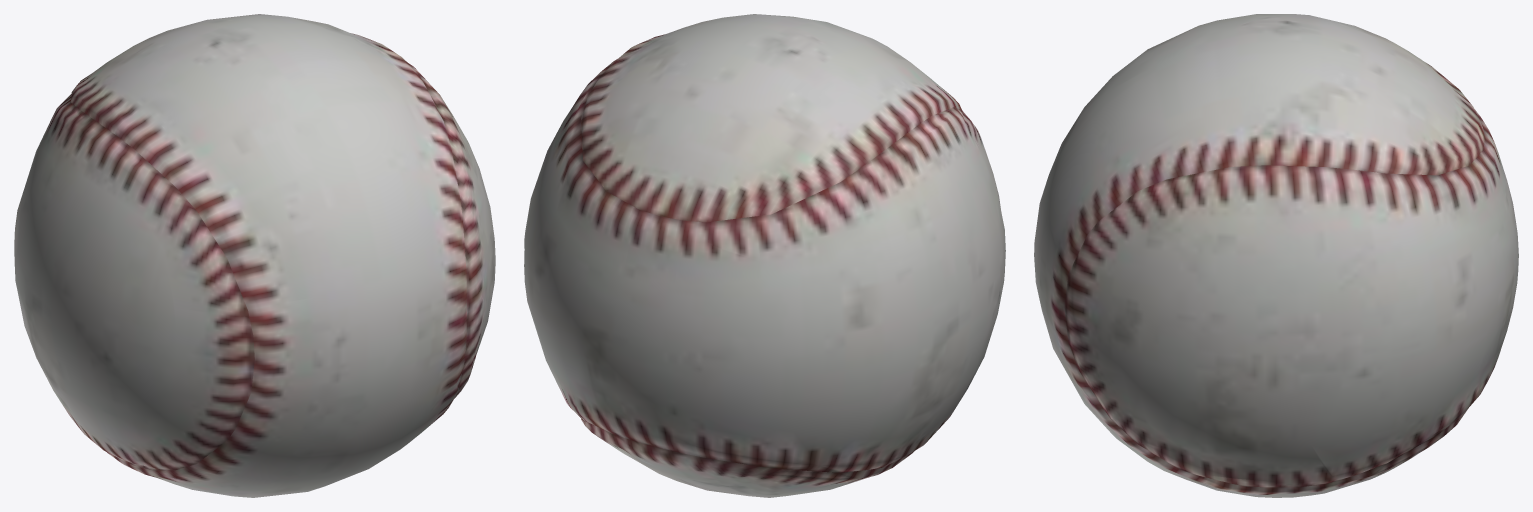
File: baseball.glb
3 views of the same model, side by side, from view 1: azimuth 30°, elevation 25°; view 2: azimuth 150°, elevation 25°; view 3: azimuth 270°, elevation 25° (orthographic).
Parts seen in each view (by area): view 1: baseball_01; view 2: baseball_01; view 3: baseball_01.
Boxes of the visible parts, x1,y1,x2,y2 form: baseball_01: [14, 14, 495, 497]; baseball_01: [524, 14, 1005, 497]; baseball_01: [1034, 14, 1518, 497].
Bounding box in the file's own units: 0.0735 × 0.0752 × 0.0752.
1 material, 1 textured.
